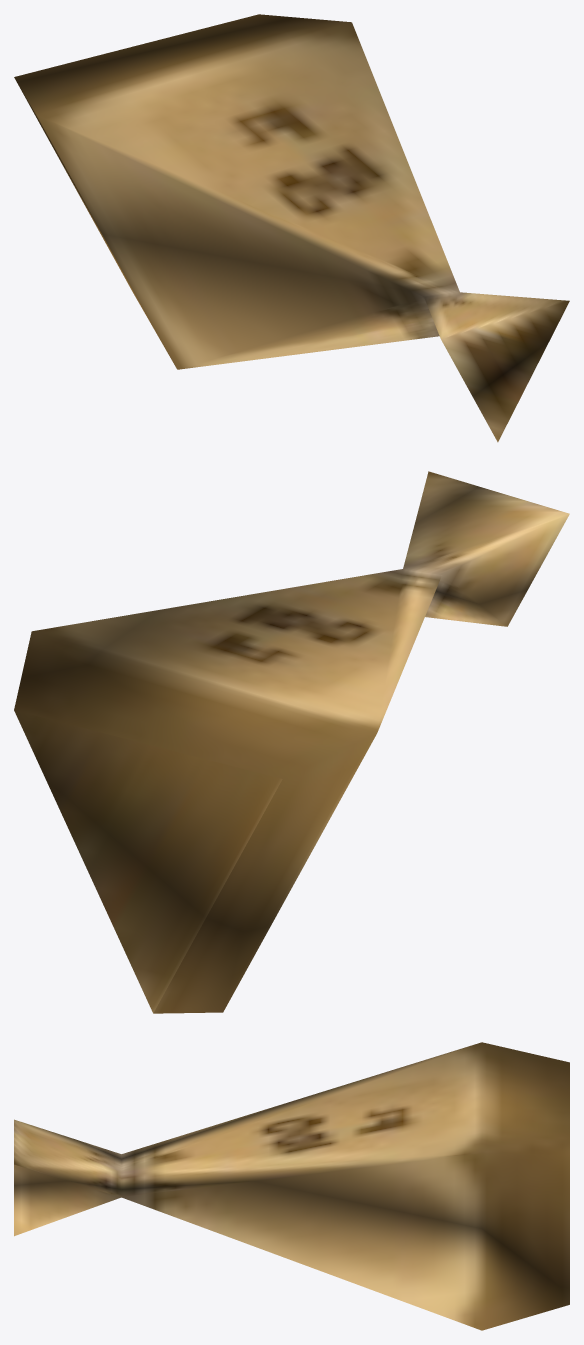
The model's file is sandbag.glb.
The picture shows the model from 3 angles, top to bottom: view 1: azimuth 30°, elevation 25°; view 2: azimuth 150°, elevation 25°; view 3: azimuth 270°, elevation 25°; orthographic projection. The views are drawn at different scales.
Parts seen in each view (by area): view 1: joint_scale_sandbag; view 2: joint_scale_sandbag; view 3: joint_scale_sandbag.
Boxes of the visible parts, x1,y1,x2,y2 form: joint_scale_sandbag: (14,14,569,442); joint_scale_sandbag: (14,471,569,1013); joint_scale_sandbag: (14,1042,569,1330).
Bounding box in the file's own units: 1.21 × 1.12 × 2.3.
1 material, 1 textured.
